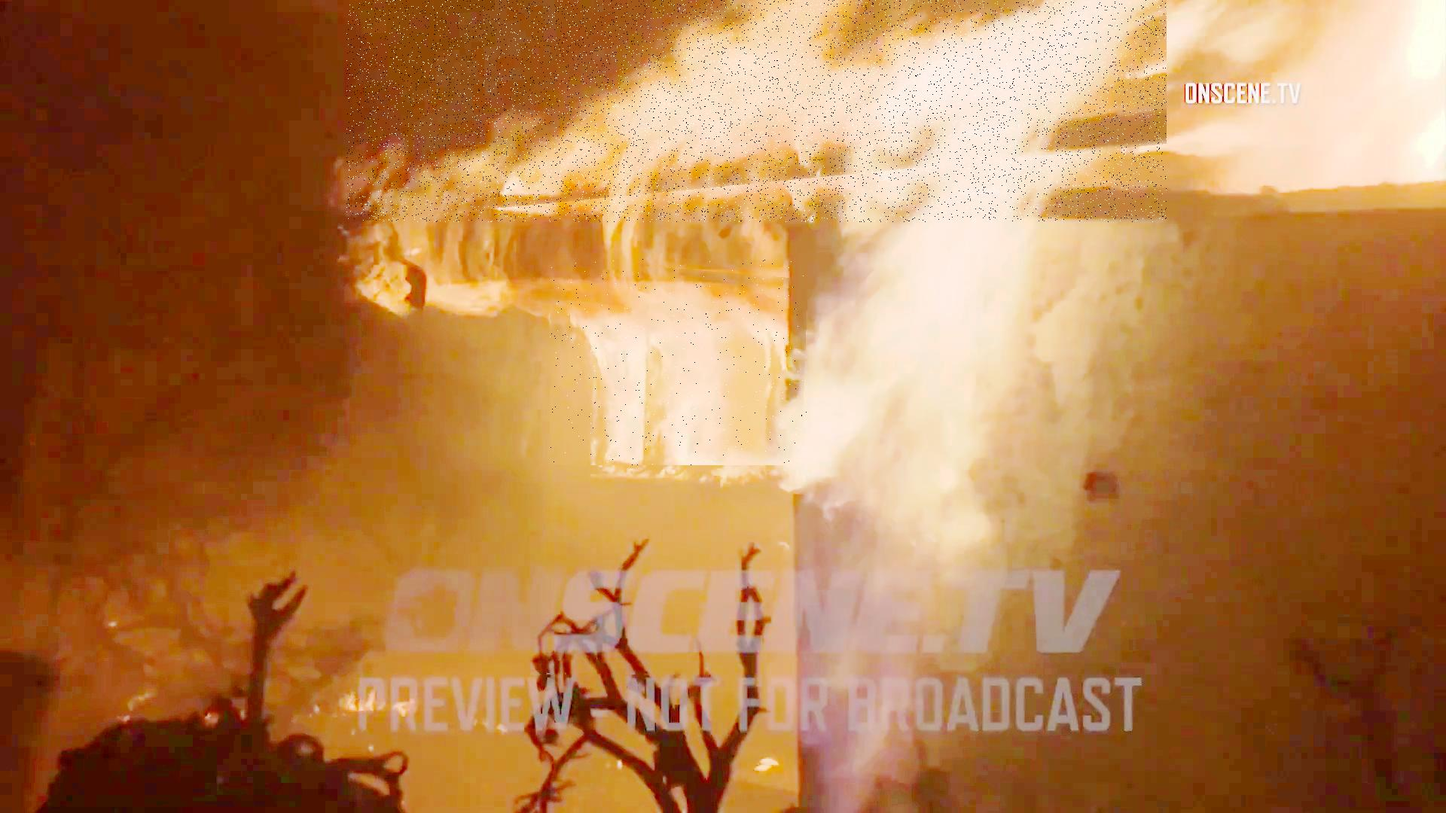fire: (347, 0, 1167, 222), (550, 258, 808, 465)
